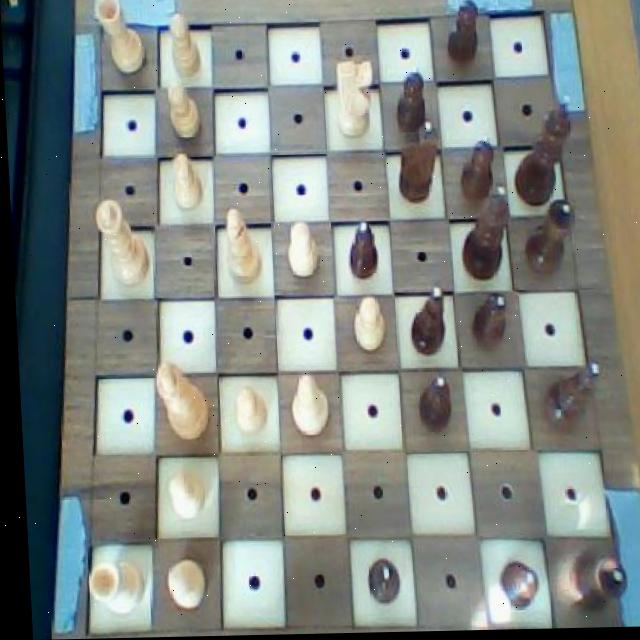bishop: (533, 357, 598, 439), (400, 283, 446, 360)
black-bishop: (508, 93, 578, 211)
black-king: (390, 120, 444, 210)
black-knight: (461, 289, 509, 357), (442, 0, 485, 74), (455, 134, 498, 204), (391, 62, 430, 139), (341, 215, 381, 284), (410, 374, 449, 439), (493, 556, 536, 612), (358, 558, 401, 610)
black-pawn: (454, 183, 511, 288)
black-queen: (516, 198, 578, 283), (557, 553, 627, 619)
black-rook: (218, 203, 266, 292), (282, 372, 330, 440)
white-bishop: (148, 353, 211, 450)
white-knight: (161, 11, 204, 88), (345, 292, 389, 360), (157, 557, 204, 617), (164, 149, 203, 217), (158, 466, 205, 522), (163, 80, 203, 145), (281, 221, 321, 285), (224, 385, 269, 440)
white-pawn: (92, 195, 152, 297)
white-queen: (80, 553, 144, 622), (96, 0, 150, 81)
